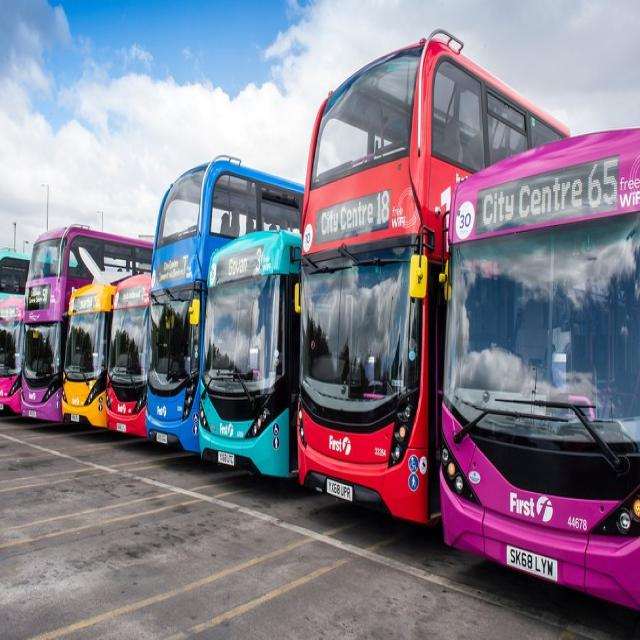BUS: (303, 38, 573, 508), (443, 128, 640, 626), (146, 160, 302, 458), (199, 227, 302, 481), (27, 227, 156, 426), (62, 282, 112, 426), (110, 278, 154, 437), (0, 254, 27, 419)
